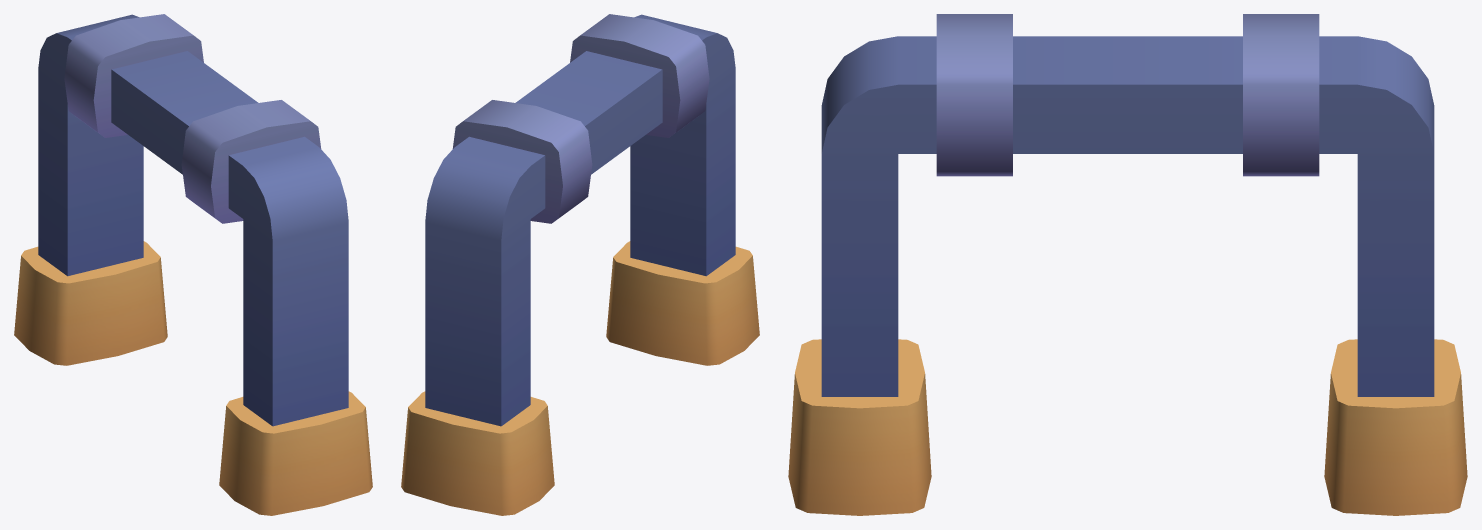
Rendered from scanner-high.glb.
3 views of the same model, side by side, from view 1: azimuth 30°, elevation 25°; view 2: azimuth 150°, elevation 25°; view 3: azimuth 270°, elevation 25° (orthographic). The views are drawn at different scales.
Visible parts, largest first — view 1: scanner-high; view 2: scanner-high; view 3: scanner-high.
Boxes of the visible parts, left/top/right/bottom form: scanner-high: left=14, top=14, right=372, bottom=515; scanner-high: left=401, top=14, right=759, bottom=515; scanner-high: left=788, top=14, right=1467, bottom=515.
Bounding box in the file's own units: 0.4841 × 1.27 × 1.77.
1 material, 1 textured.
